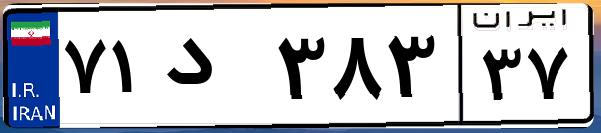1: (110, 28, 158, 98)
3: (270, 28, 330, 110), (385, 28, 445, 110), (475, 38, 525, 113)
7: (57, 26, 110, 100), (525, 38, 570, 115)
8: (330, 28, 385, 110)
د: (158, 20, 270, 120)
